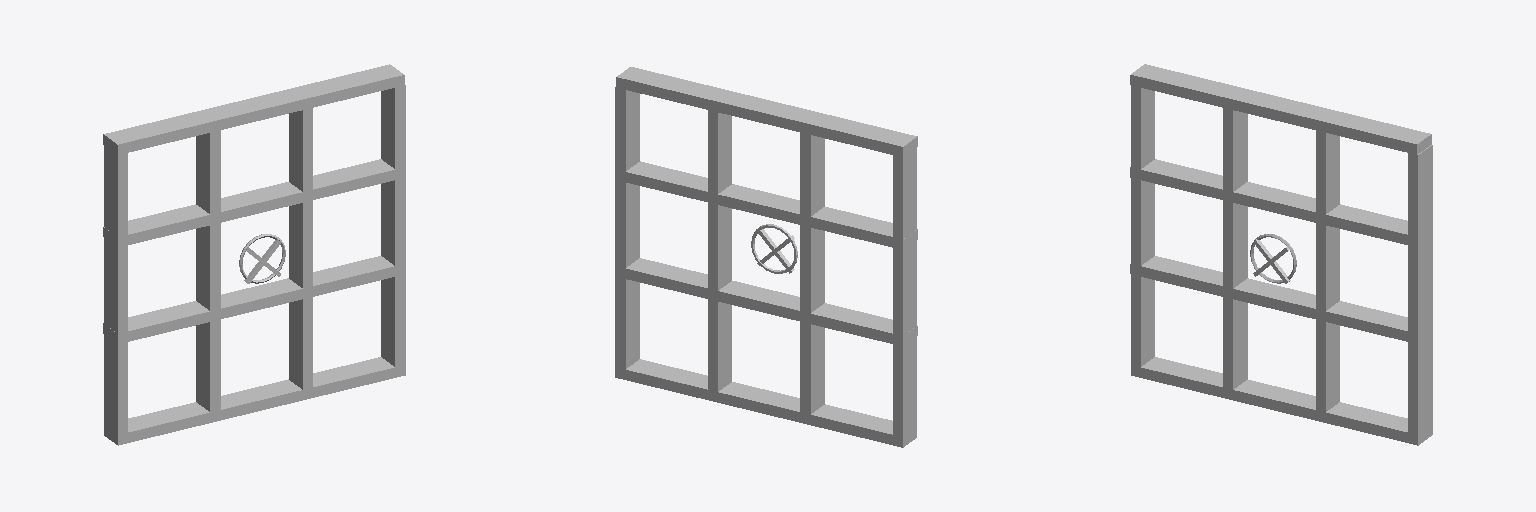
Rendered from game.obj.
The picture shows the model from 3 angles: view 1: azimuth 30°, elevation 25°; view 2: azimuth 150°, elevation 25°; view 3: azimuth 330°, elevation 25°; orthographic projection.
Parts seen in each view (by area): view 1: Object.3, Object.4, Object.5, Object.1, Object.2, Object.8, Object.6, Object.7; view 2: Object.3, Object.5, Object.1, Object.4, Object.8, Object.6, Object.7, Object.2; view 3: Object.4, Object.3, Object.1, Object.2, Object.8, Object.7, Object.6, Object.5.
Part boxes in pixels (bbox=[...]): Object.3: bbox=[103, 64, 404, 154]; Object.4: bbox=[381, 85, 405, 377]; Object.5: bbox=[104, 146, 127, 445]; Object.1: bbox=[196, 130, 220, 422]; Object.2: bbox=[289, 108, 312, 399]; Object.8: bbox=[103, 256, 394, 343]; Object.6: bbox=[103, 159, 394, 247]; Object.7: bbox=[119, 357, 394, 444]; Object.3: bbox=[616, 67, 917, 156]; Object.5: bbox=[893, 148, 916, 447]; Object.1: bbox=[800, 133, 824, 424]; Object.4: bbox=[615, 87, 639, 378]; Object.8: bbox=[616, 258, 917, 346]; Object.6: bbox=[616, 161, 917, 249]; Object.7: bbox=[615, 359, 892, 444]; Object.2: bbox=[708, 110, 731, 397]; Object.4: bbox=[1408, 145, 1432, 445]; Object.3: bbox=[1130, 64, 1431, 154]; Object.1: bbox=[1223, 108, 1247, 396]; Object.2: bbox=[1316, 131, 1339, 421]; Object.8: bbox=[1130, 256, 1407, 341]; Object.7: bbox=[1131, 357, 1407, 442]; Object.6: bbox=[1130, 159, 1407, 244]; Object.5: bbox=[1131, 85, 1154, 366].
Size of the model in its own units: 62.21 by 62.18 by 6.53.